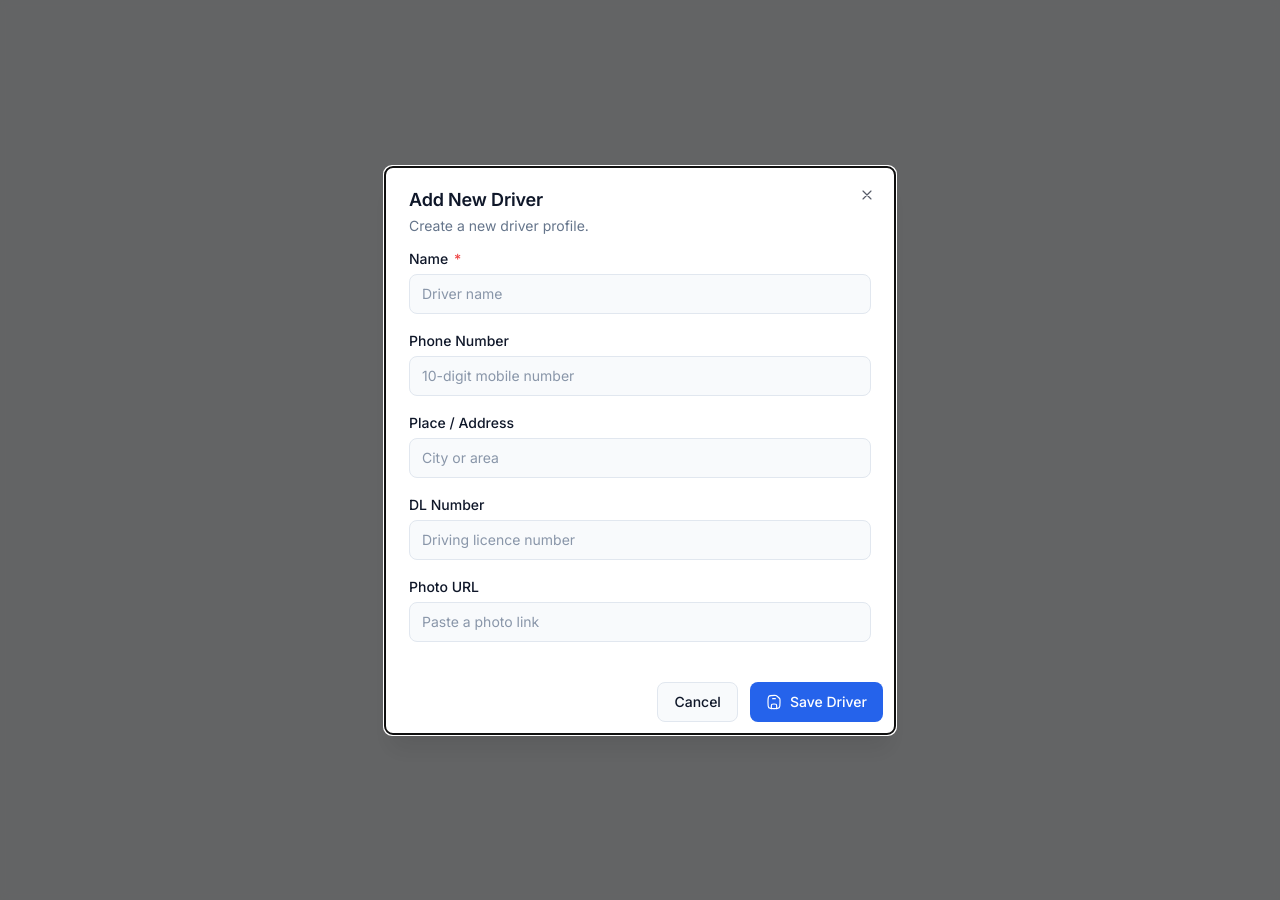
Test case: AddDriverModal › shows the similar-name warning returned by the server after Save
Type "Ravi Kumar" into the field labelled "Name *" at point(640, 294), box x1=409 y1=274 x2=871 y2=314
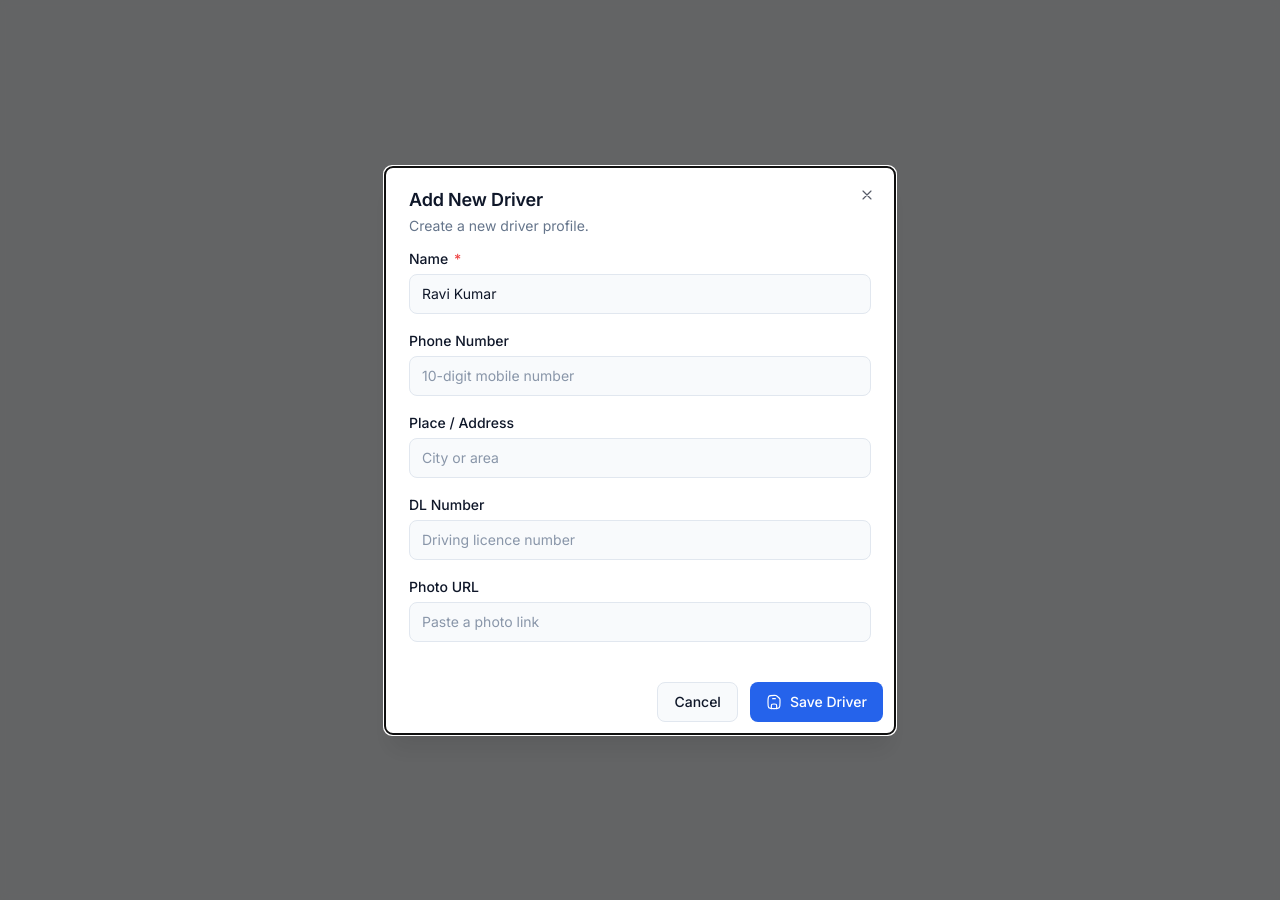
Click the button "Save Driver" at point(816, 702), box x1=750 y1=682 x2=883 y2=722
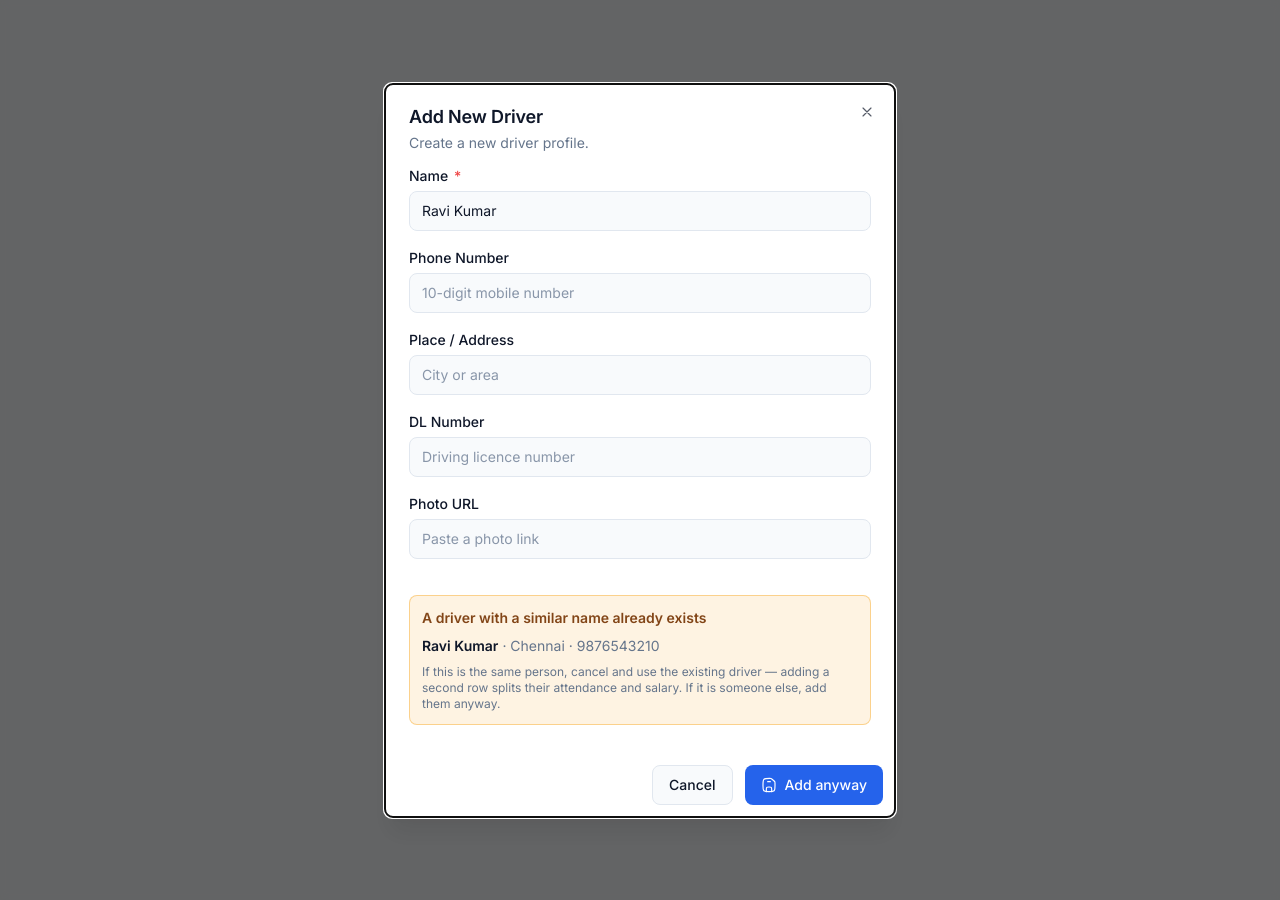
Result: the text "A driver with a similar name already exists" is shown at x1=422 y1=608 x2=706 y2=626
Result: the text "Ravi Kumar" is shown at x1=422 y1=636 x2=498 y2=654
Result: the button "Add anyway" is shown at x1=744 y1=764 x2=883 y2=804
